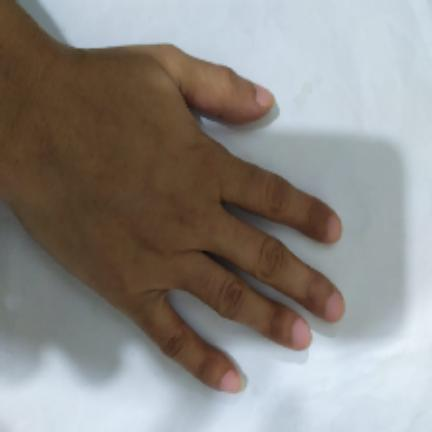Nail: (292, 318, 311, 350), (326, 290, 344, 322), (219, 370, 243, 392), (326, 214, 342, 243), (256, 84, 274, 108)
